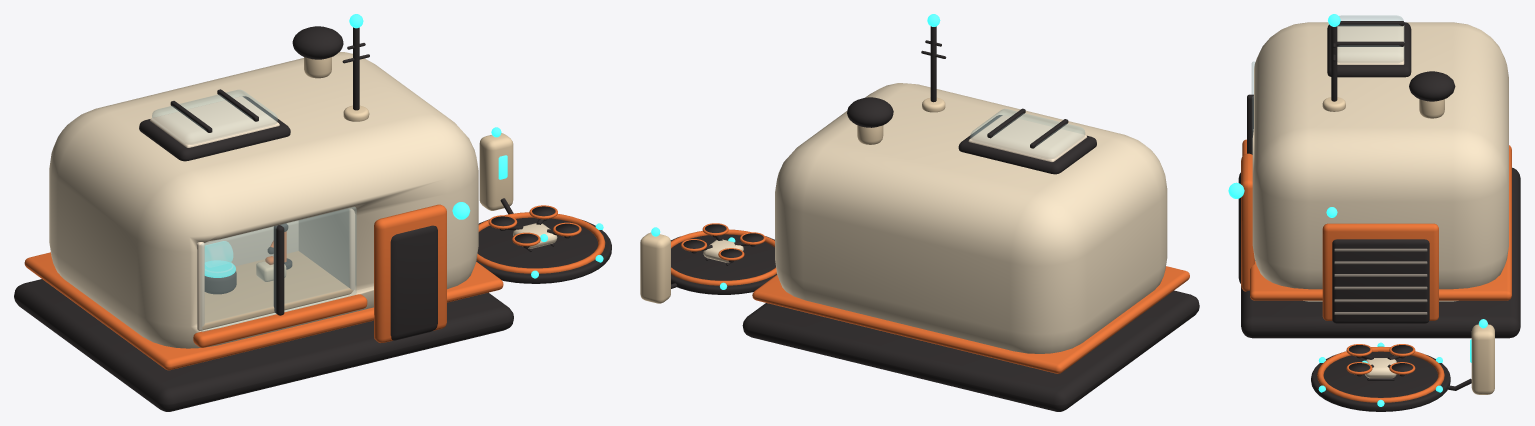
The model's file is research-c-1.glb.
3 views of the same model, side by side, from view 1: azimuth 30°, elevation 25°; view 2: azimuth 150°, elevation 25°; view 3: azimuth 270°, elevation 25° (orthographic). The views are drawn at different scales.
Parts seen in each view (by area): view 1: Cube.001, Cube, Cube.008, Cube.011, Cube.003, Cube.013, Cylinder.004, Cube.012, Cube.029, Cube.005, Cube.028, Cube.009 (+10 smaller); view 2: Cube.001, Cube, Cube.011, Cylinder.004, Cube.029, Cube.028, Cube.025, Cube.027, Sphere.013, Torus.001, Cylinder.015; view 3: Cube.001, Cube, Cube.015, Cylinder.004, Cube.014, Cube.011, Cube.029, Cube.028, Cube.025, Cube.012, Cube.027, Torus.001 (+15 smaller).
Boxes of the visible parts, <box> form: Cube.001: <box>49,52,478,348</box>; Cube: <box>14,279,513,411</box>; Cube.008: <box>200,207,356,331</box>; Cube.011: <box>24,252,503,370</box>; Cube.003: <box>202,251,353,329</box>; Cube.013: <box>390,225,437,340</box>; Cylinder.004: <box>476,217,611,283</box>; Cube.012: <box>374,204,446,342</box>; Cube.029: <box>152,89,277,144</box>; Cube.005: <box>298,208,355,290</box>; Cube.028: <box>150,96,279,147</box>; Cube.009: <box>193,294,367,347</box>; Cube.001: <box>775,83,1167,353</box>; Cube: <box>742,290,1199,411</box>; Cube.011: <box>752,266,1189,373</box>; Cylinder.004: <box>670,234,776,294</box>; Cube.029: <box>970,109,1085,158</box>; Cube.028: <box>968,115,1086,161</box>; Cube.025: <box>640,232,670,303</box>; Cube.027: <box>958,115,1096,174</box>; Sphere.013: <box>847,97,893,127</box>; Torus.001: <box>671,229,776,285</box>; Cylinder.015: <box>930,26,936,102</box>; Cube.001: <box>1252,22,1508,301</box>; Cube: <box>1241,167,1520,338</box>; Cube.015: <box>1332,239,1429,323</box>; Cylinder.004: <box>1311,351,1450,411</box>; Cube.014: <box>1322,223,1438,320</box>; Cube.011: <box>1250,145,1511,300</box>; Cube.029: <box>1337,15,1404,62</box>; Cube.028: <box>1337,25,1404,64</box>; Cube.025: <box>1471,324,1494,394</box>; Cube.012: <box>1241,153,1254,291</box>; Cube.027: <box>1327,22,1411,77</box>; Torus.001: <box>1317,346,1444,402</box>.
Size of the model in its own units: 2.33 by 1.32 by 1.26.
